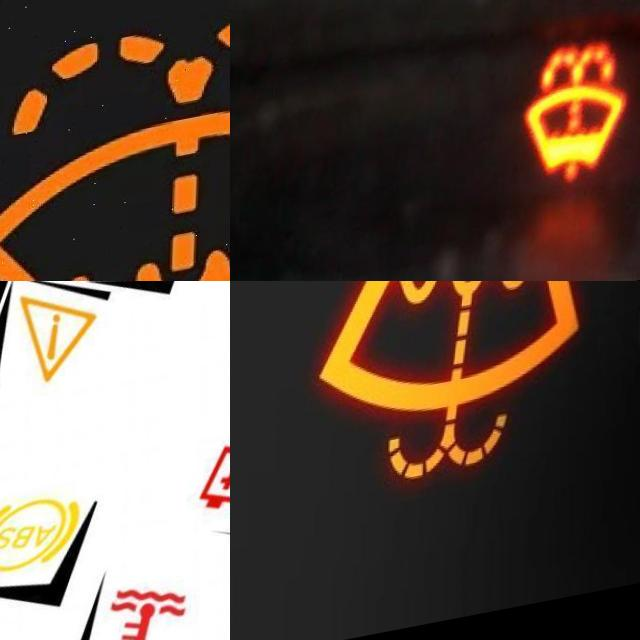Washer Fluid: (0, 0, 230, 281)
